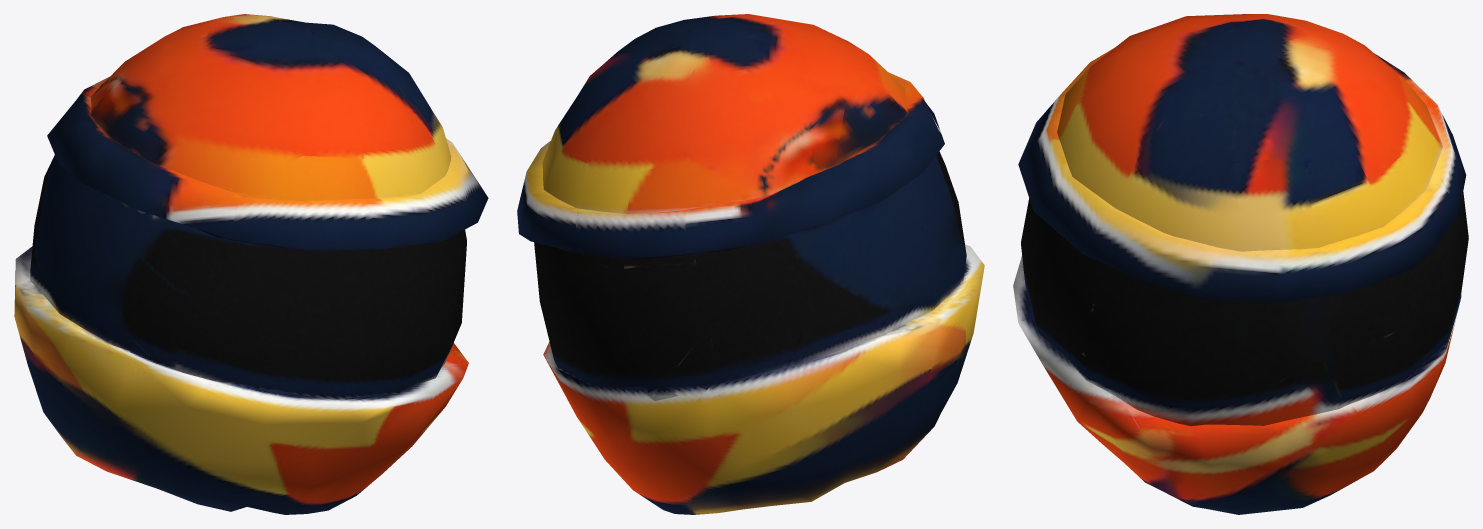
File: casco_v1.glb
The picture shows the model from 3 angles, left to right: view 1: azimuth 30°, elevation 25°; view 2: azimuth 150°, elevation 25°; view 3: azimuth 270°, elevation 25°; orthographic projection.
Parts seen in each view (by area): view 1: casco_v1_1, casco_v1_2, casco_v1_3; view 2: casco_v1_1, casco_v1_2, casco_v1_3; view 3: casco_v1_1, casco_v1_2, casco_v1_3.
Boxes of the visible parts, left/top/right/bottom form: casco_v1_1: left=30, top=14, right=466, bottom=399; casco_v1_2: left=14, top=246, right=468, bottom=514; casco_v1_3: left=47, top=76, right=488, bottom=249; casco_v1_1: left=534, top=14, right=966, bottom=400; casco_v1_2: left=543, top=244, right=984, bottom=514; casco_v1_3: left=517, top=72, right=944, bottom=259; casco_v1_1: left=1021, top=14, right=1468, bottom=426; casco_v1_2: left=1013, top=255, right=1461, bottom=514; casco_v1_3: left=1018, top=48, right=1466, bottom=302.
Size of the model in its own units: 0.1816 by 0.1895 by 0.1736.
1 material, 1 textured.
